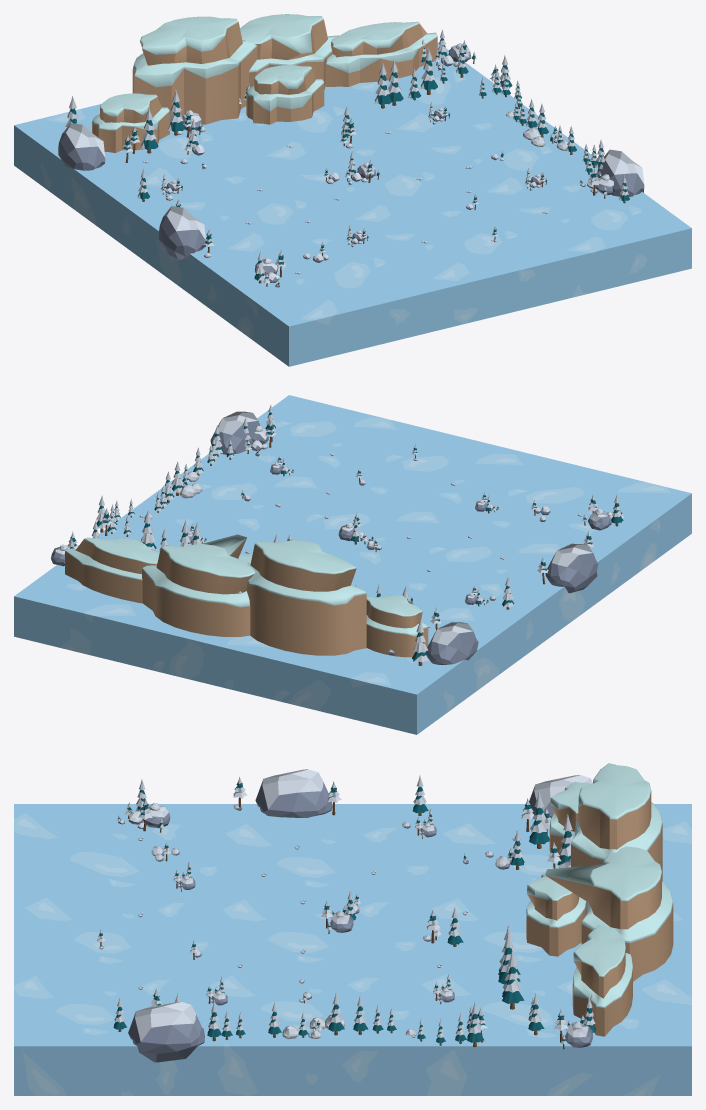
Rendered from snow sniper.fbx.
The picture shows the model from 3 angles, top to bottom: view 1: azimuth 30°, elevation 25°; view 2: azimuth 150°, elevation 25°; view 3: azimuth 270°, elevation 25°; orthographic projection. The views are drawn at different scales.
Visible parts, largest first — view 1: pPlane1, pine_wood, stone_62, stone_55, stone_61; view 2: pPlane1, pine_wood, stone_62, stone_55, stone_61; view 3: pPlane1, pine_wood, stone_61, stone_62, stone_55, pine_tree_28, pine_tree_45, stone_1.
Part boxes in pixels (box(x1,y1,x2,y2)): pPlane1: box(14, 42, 691, 366); pine_wood: box(92, 14, 437, 152); stone_62: box(159, 206, 205, 261); stone_55: box(58, 123, 105, 170); stone_61: box(597, 149, 644, 196); pPlane1: box(14, 395, 691, 734); pine_wood: box(65, 534, 428, 657); stone_62: box(545, 543, 598, 593); stone_55: box(426, 622, 478, 664); stone_61: box(210, 411, 260, 454); pPlane1: box(14, 804, 691, 1095); pine_wood: box(526, 763, 673, 1036); stone_61: box(128, 1001, 204, 1062); stone_62: box(255, 769, 332, 817); stone_55: box(529, 775, 592, 818); pine_tree_28: box(502, 950, 524, 1009); pine_tree_45: box(529, 791, 549, 848); stone_1: box(565, 1024, 592, 1047).
Bounding box in the file's own units: 485 × 138 × 547.
